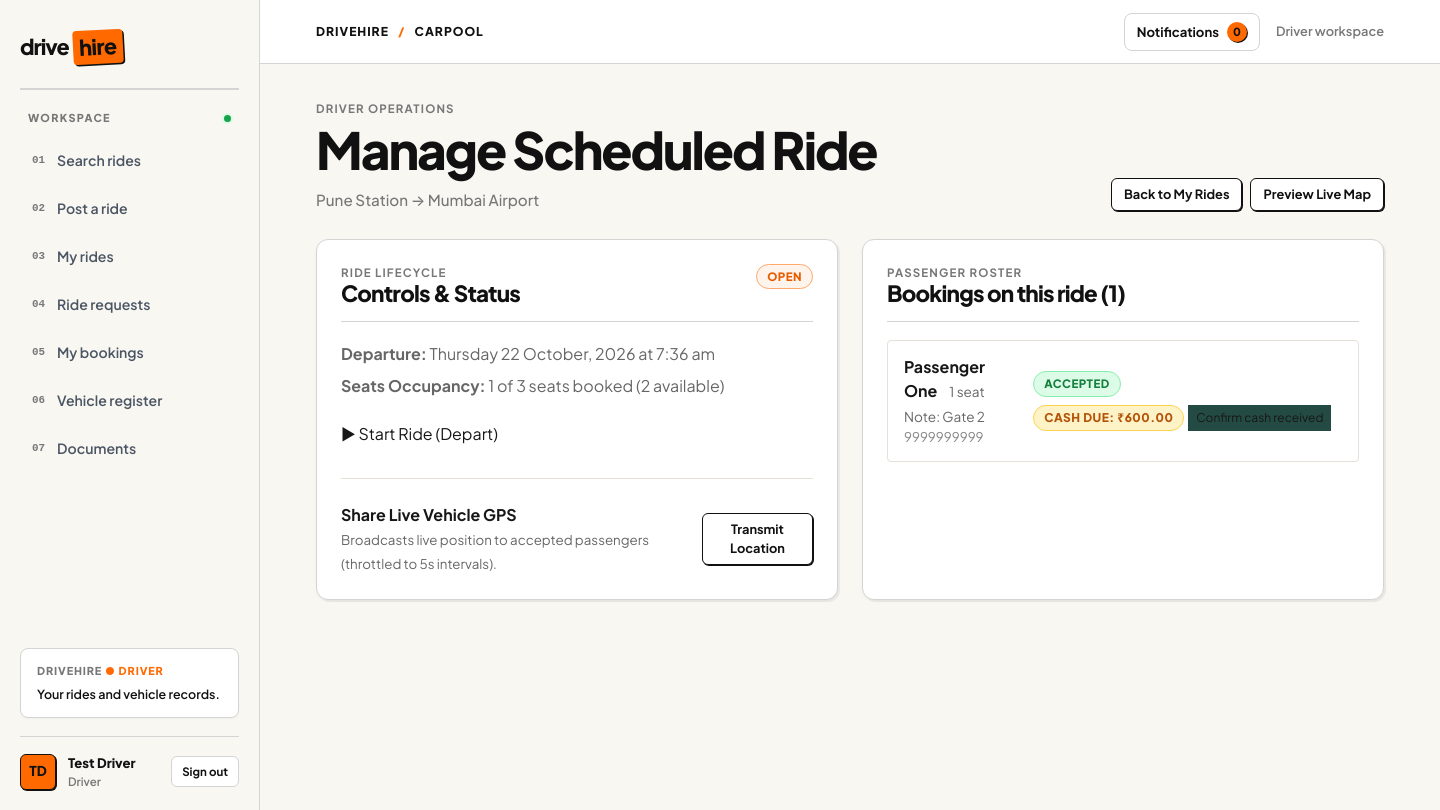
Test: F06 Payments Frontend Flows › renders DriverRideManagePage with "Confirm cash received" and processes confirmation
This screenshot has width=1440, height=810.
What coordinates should you click on to do the following:
click the button "Confirm cash received"
I would click on:
 (1260, 418)
Its box is [1188,405,1332,431].
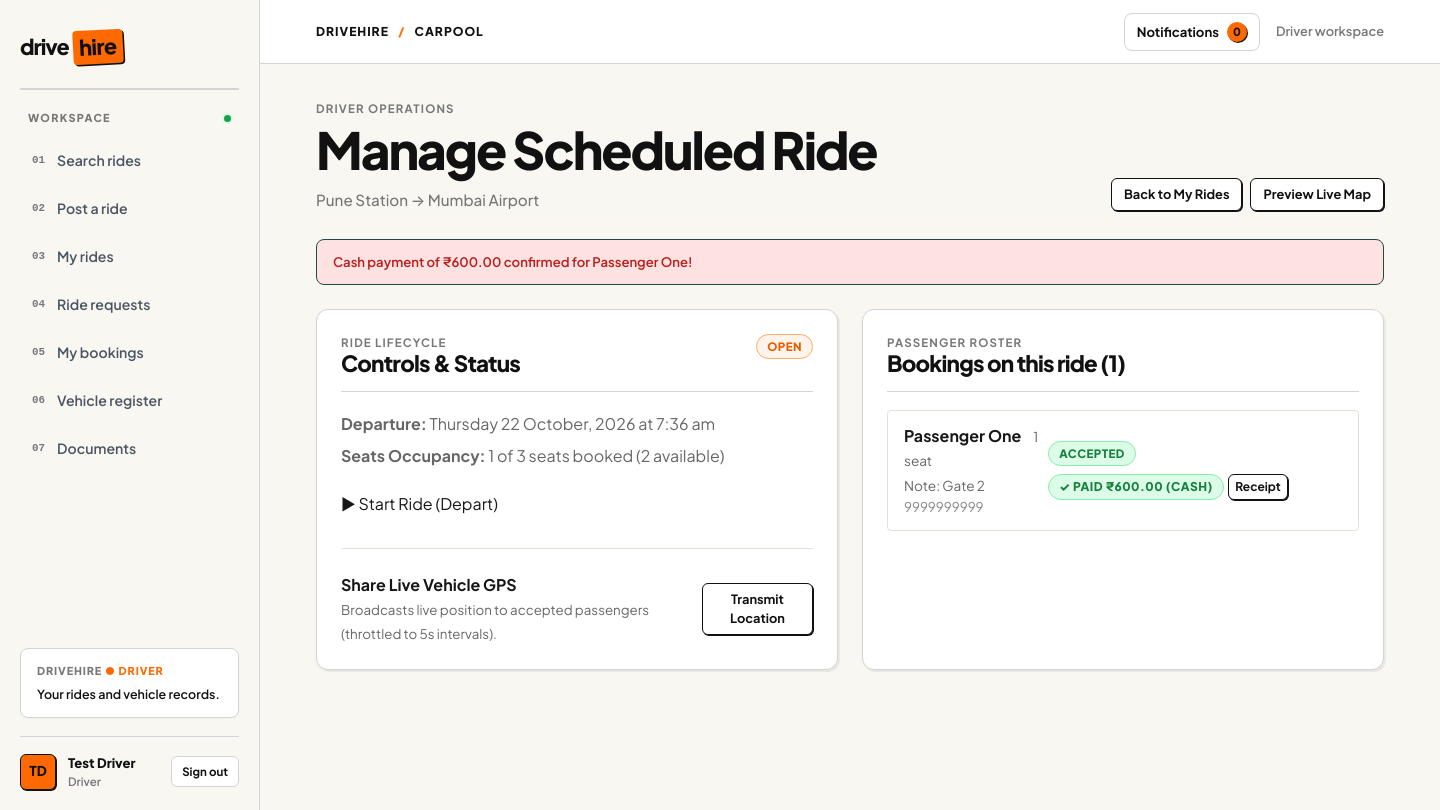
expect the text "Cash payment of ₹600.00 confirmed for Passenger One!" is shown: met, box [316,239,1384,285]
